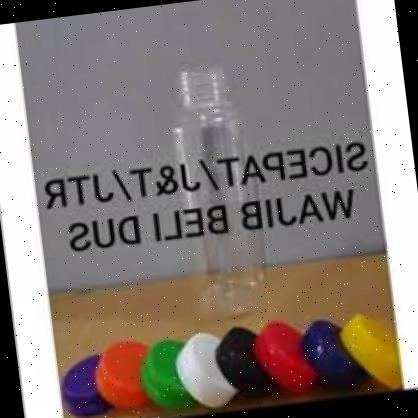bottle: (136, 28, 286, 346)
